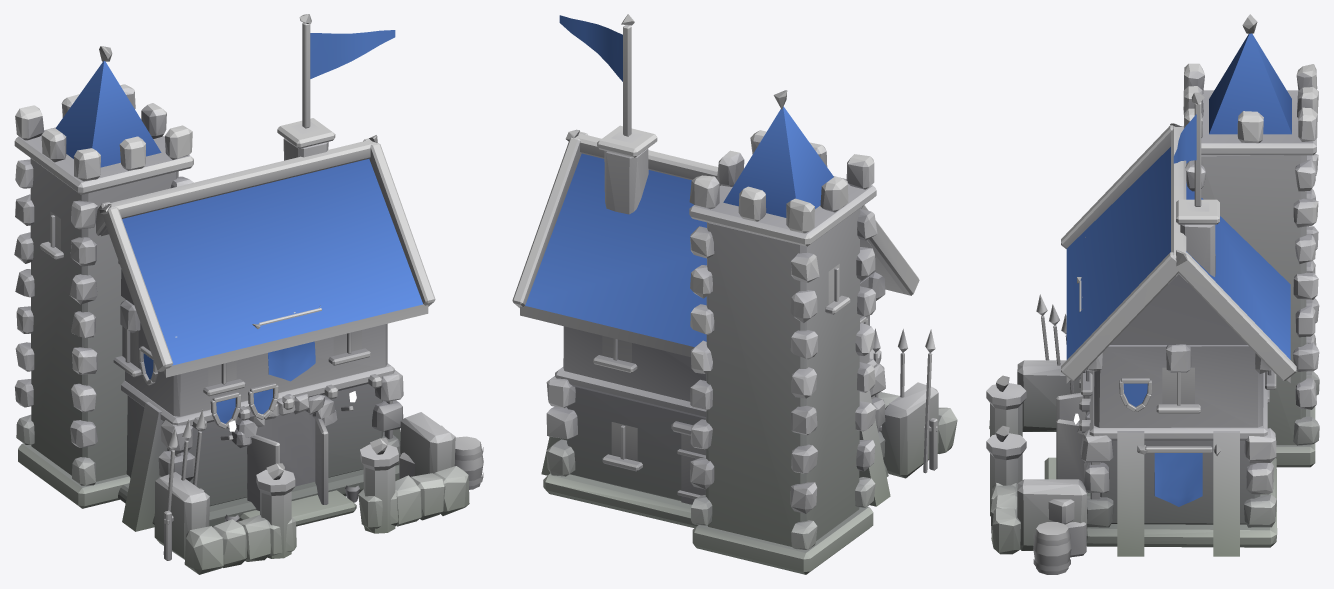
Rendered from barracks_1_6.glb.
The picture shows the model from 3 angles, left to right: view 1: azimuth 30°, elevation 25°; view 2: azimuth 150°, elevation 25°; view 3: azimuth 270°, elevation 25°; orthographic projection. The views are drawn at different scales.
Parts seen in each view (by area): view 1: Tower; view 2: Tower; view 3: Tower.
Part boxes in pixels (left/top/right/bottom): Tower: left=14, top=14, right=483, bottom=574; Tower: left=512, top=14, right=957, bottom=574; Tower: left=986, top=14, right=1319, bottom=574.
Bounding box in the file's own units: 4.03 × 5.03 × 3.48.
